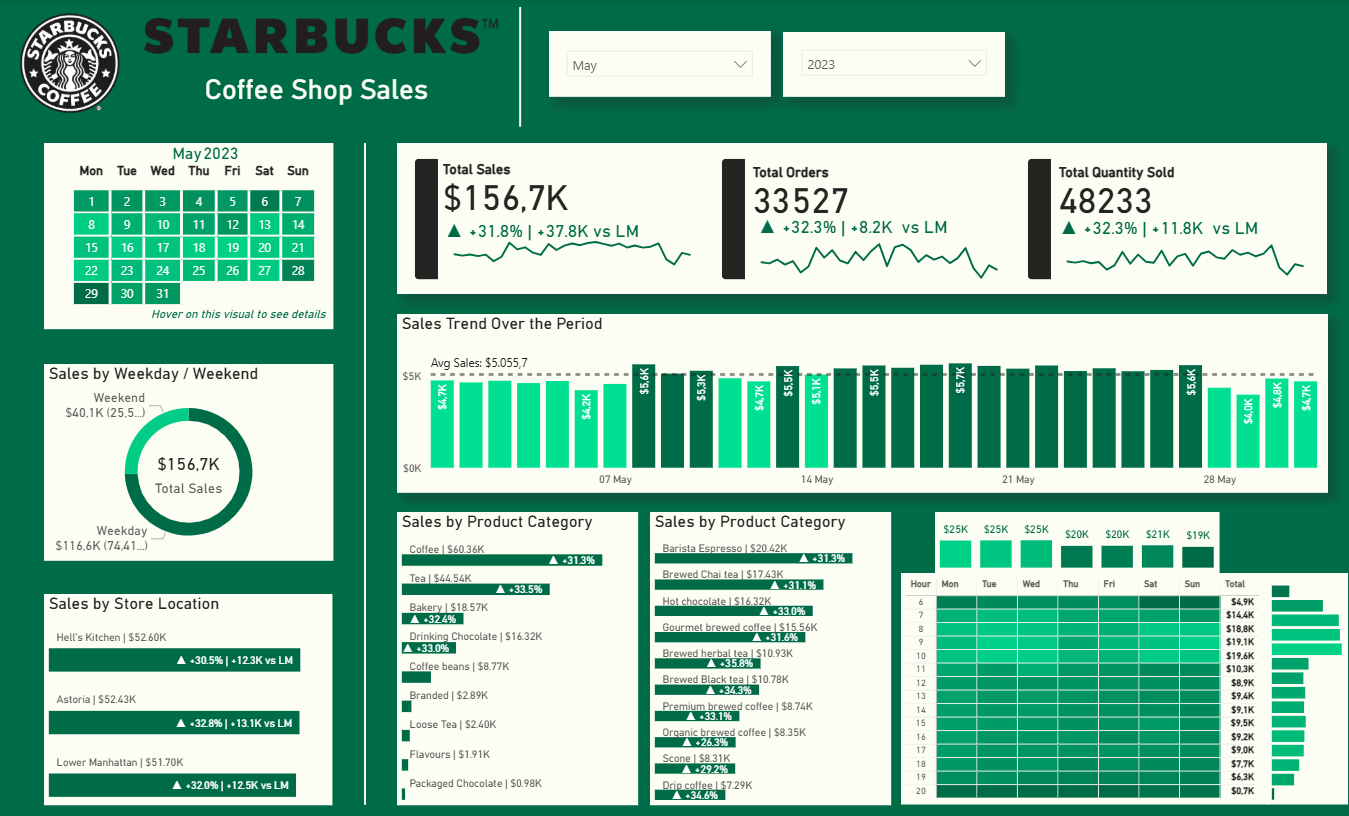

What the dashboard file says about the page in this screenshot:
{"tool":"powerbi","page":{"name":"Page 1","canvas":[1400,850],"ordinal":0},"visuals":[{"type":"shape","box":[571.3,33,229.8,68.1],"z":0},{"type":"image","box":[146.8,20.2,375.5,37.2],"z":1000},{"type":"image","box":[0,0,148.9,133],"z":2000},{"type":"textbox","box":[209.6,71.3,250,43.6],"z":3000},{"type":"shape","box":[535.1,8.5,12.8,124.5],"z":4000},{"type":"slicer","fields":{"Values":["Date Table.Month"]},"box":[579.8,43.6,212.8,50],"z":5000},{"type":"shape","box":[813.5,34.2,230.2,67.2],"z":6000},{"type":"slicer","fields":{"Values":["Date Table.Year"]},"box":[822.7,42.2,211.9,50.1],"z":7000},{"type":"shape","box":[413.6,149.3,964,156.5],"z":8000},{"type":"group","id":"g1","title":"Group 1","box":[427.1,161,305.1,135],"z":9000},{"type":"cardVisual","fields":{"Data":["Transaction.Total Sales"]},"box":[427.1,161,305.1,135],"z":10000,"group":"g1"},{"type":"group","id":"g2","title":"Group 1","box":[744.8,161,305.1,135],"z":10000},{"type":"cardVisual","fields":{"Data":["Transaction.Total Orders"]},"box":[744.8,161,305,135],"z":10000,"group":"g2"},{"type":"cardVisual","fields":{"Data":["Transaction.Total Quantity Sold"]},"box":[1062.5,161,305,135],"z":10000,"group":"g3"},{"type":"group","id":"g3","title":"Group 1","box":[1062.5,161,305.1,135],"z":11000},{"type":"lineChart","fields":{"Category":["Date Table.Date.Variation.Date Hierarchy.Year","Date Table.Date.Variation.Date Hierarchy.Quarter","Date Table.Date.Variation.Date Hierarchy.Month","Date Table.Date.Variation.Date Hierarchy.Day"],"Y":["Transaction.Total Orders"]},"box":[775.9,231.2,274,64.5],"z":11000,"group":"g2"},{"type":"lineChart","fields":{"Category":["Date Table.Date.Variation.Date Hierarchy.Year","Date Table.Date.Variation.Date Hierarchy.Quarter","Date Table.Date.Variation.Date Hierarchy.Month","Date Table.Date.Variation.Date Hierarchy.Day"],"Y":["Transaction.Total Quantity Sold"]},"box":[1093.6,231.2,274,64.5],"z":11000,"group":"g3"},{"type":"lineChart","fields":{"Category":["Date Table.Date.Variation.Date Hierarchy.Year","Date Table.Date.Variation.Date Hierarchy.Quarter","Date Table.Date.Variation.Date Hierarchy.Month","Date Table.Date.Variation.Date Hierarchy.Day"],"Y":["Transaction.Total Sales"]},"box":[458.2,233.5,274,61],"z":11000,"group":"g1"},{"type":"pivotTable","fields":{"Rows":["Date Table.Week Number"],"Columns":["Date Table.Day Name"],"Values":["Min(Date Table.Day Number)"]},"box":[47.5,148.8,300,192.5],"z":12000},{"type":"group","id":"g4","title":"Group 2","box":[152.9,146,110.2,29.2],"z":13000},{"type":"card","fields":{"Values":["Min(Date Table.Month)"]},"box":[152.9,146,85.4,29.2],"z":14000,"group":"g4"},{"type":"card","fields":{"Values":["Transaction.MoM Growth & Diff Sales"]},"box":[455.9,218.6,215.3,43.8],"z":14000,"group":"g1"},{"type":"card","fields":{"Values":["Transaction.MoM Growth & Diff Orders"]},"box":[772.4,220.9,225.7,32.2],"z":14000,"group":"g2"},{"type":"card","fields":{"Values":["Transaction.MoM Growth & Diff Quantity Sold"]},"box":[1090.1,222,225.7,32.2],"z":14000,"group":"g3"},{"type":"card","fields":{"Values":["Transaction.Map Note"]},"box":[150,313.8,197.5,27.5],"z":14000},{"type":"card","fields":{"Values":["Min(Date Table.Year)"]},"box":[199,146,64.1,29.2],"z":15000,"group":"g4"},{"type":"donutChart","title":"Sales by Weekday / Weekend","fields":{"Category":["Date Table.Weekday / Weekend"],"Y":["Transaction.Total Sales"]},"box":[47.6,377.9,299.8,204.4],"z":15000},{"type":"card","fields":{"Values":["Transaction.Total Sales"]},"box":[129.6,460.5,135.9,59.9],"z":16000},{"type":"clusteredBarChart","title":"Sales by Store Location","fields":{"Category":["Transaction.store_location"],"Y":["Transaction.Placeholder","Transaction.Total Sales"]},"box":[47.2,617.1,299.3,218.8],"z":17000},{"type":"shape","box":[413.3,327,964.8,185.4],"z":18000},{"type":"columnChart","title":"Sales Trend Over the Period","fields":{"Category":["Transaction.transaction_date"],"Y":["Transaction.Total Sales"]},"box":[413.3,327,964.8,185.4],"z":19000},{"type":"clusteredBarChart","title":"Sales by Product Category","fields":{"Y":["Transaction.Placeholder","Transaction.Total Sales"],"Category":["Transaction.product_category"]},"box":[413.3,531.9,249.8,303.9],"z":20000},{"type":"clusteredBarChart","title":"Sales by Product Category","fields":{"Y":["Transaction.Placeholder","Transaction.Total Sales"],"Category":["Transaction.product_type"]},"box":[675.8,531.9,249.8,303.9],"z":21000},{"type":"pivotTable","fields":{"Rows":["Transaction.Hour"],"Columns":["Date Table.Day Name"],"Values":["Transaction.Total Sales"]},"box":[936,595.3,379.8,240.1],"z":22000},{"type":"barChart","fields":{"Category":["Transaction.Hour"],"Y":["Transaction.Total Sales"]},"box":[1315.8,595.3,83.8,240.1],"z":22001},{"type":"columnChart","title":"Sales by Days | Hours","fields":{"Y":["Transaction.Total Sales"],"Category":["Date Table.Day Name"]},"box":[971.7,531.7,294.9,63.7],"z":22002},{"type":"shape","box":[369,149.3,22.8,686.2],"z":22003}]}

Visuals, with their boxes in screenshot pixels (x1, y1, x2, y2), scaled from the page's 1400x850 canvas onto the 1349x816 screenshot:
shape: region(550, 32, 772, 97)
image: region(141, 19, 503, 55)
image: region(0, 0, 143, 128)
textbox: region(202, 68, 443, 110)
shape: region(516, 8, 528, 128)
slicer - Date Table.Month: region(559, 42, 764, 90)
shape: region(784, 33, 1006, 97)
slicer - Date Table.Year: region(793, 41, 997, 89)
shape: region(399, 143, 1327, 294)
"Group 1" group: region(412, 155, 706, 284)
cardVisual - Transaction.Total Sales: region(412, 155, 706, 284)
"Group 1" group: region(718, 155, 1012, 284)
cardVisual - Transaction.Total Orders: region(718, 155, 1012, 284)
cardVisual - Transaction.Total Quantity Sold: region(1024, 155, 1318, 284)
"Group 1" group: region(1024, 155, 1318, 284)
lineChart - Date Table.Date.Variation.Date Hierarchy.Year x Date Table.Date.Variation.Date Hierarchy.Quarter: region(748, 222, 1012, 284)
lineChart - Date Table.Date.Variation.Date Hierarchy.Year x Date Table.Date.Variation.Date Hierarchy.Quarter: region(1054, 222, 1318, 284)
lineChart - Date Table.Date.Variation.Date Hierarchy.Year x Date Table.Date.Variation.Date Hierarchy.Quarter: region(442, 224, 706, 283)
pivotTable - Date Table.Week Number x Date Table.Day Name: region(46, 143, 335, 328)
"Group 2" group: region(147, 140, 254, 168)
card - Min(Date Table.Month): region(147, 140, 230, 168)
card - Transaction.MoM Growth & Diff Sales: region(439, 210, 647, 252)
card - Transaction.MoM Growth & Diff Orders: region(744, 212, 962, 243)
card - Transaction.MoM Growth & Diff Quantity Sold: region(1050, 213, 1268, 244)
card - Transaction.Map Note: region(145, 301, 335, 328)
card - Min(Date Table.Year): region(192, 140, 254, 168)
"Sales by Weekday / Weekend" donutChart: region(46, 363, 335, 559)
card - Transaction.Total Sales: region(125, 442, 256, 500)
"Sales by Store Location" clusteredBarChart: region(45, 592, 334, 802)
shape: region(398, 314, 1328, 492)
"Sales Trend Over the Period" columnChart: region(398, 314, 1328, 492)
"Sales by Product Category" clusteredBarChart: region(398, 511, 639, 802)
"Sales by Product Category" clusteredBarChart: region(651, 511, 892, 802)
pivotTable - Transaction.Hour x Date Table.Day Name: region(902, 571, 1268, 802)
barChart - Transaction.Hour x Transaction.Total Sales: region(1268, 571, 1348, 802)
"Sales by Days | Hours" columnChart: region(936, 510, 1220, 572)
shape: region(356, 143, 378, 802)
